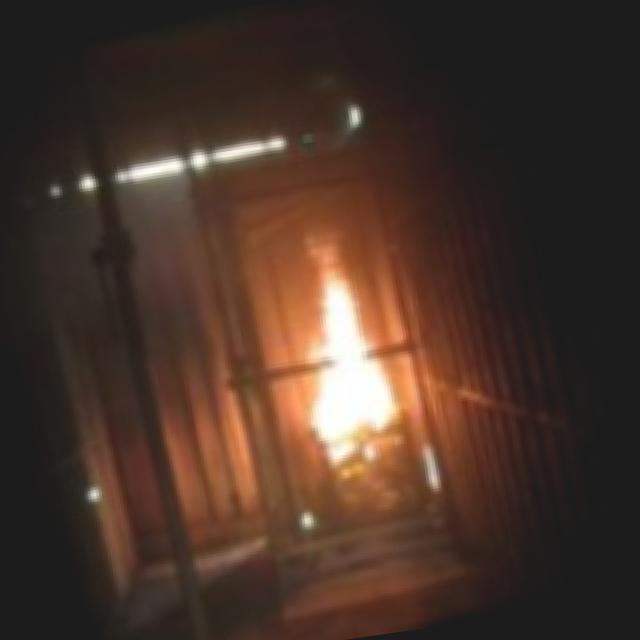fire: (262, 210, 417, 465)
